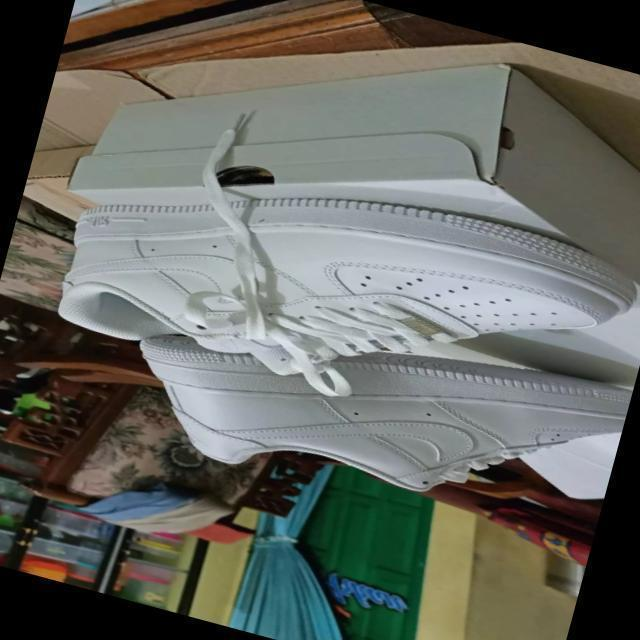nike original air force: (39, 111, 640, 469), (111, 264, 632, 562)
